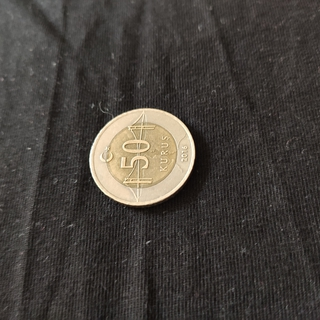50KURUS: (87, 106, 196, 210)
